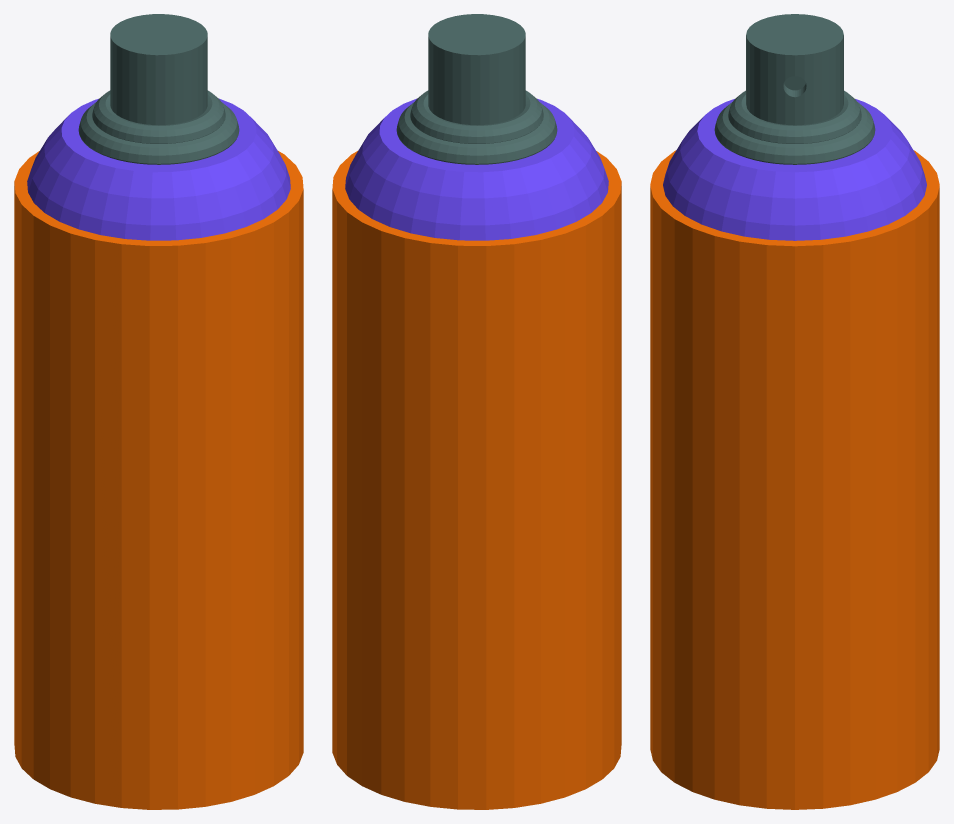
File: Spray.fbx
3 views of the same model, side by side, from view 1: azimuth 30°, elevation 25°; view 2: azimuth 150°, elevation 25°; view 3: azimuth 270°, elevation 25° (orthographic).
Visible parts, largest first — view 1: Can, Nozzle body, Nozzle, Ring 1, Ring 2; view 2: Can, Nozzle body, Nozzle, Ring 1, Ring 2; view 3: Can, Nozzle body, Nozzle, Ring 1, Ring 2.
Boxes of the visible parts, x1,y1,x2,y2 form: Can: (14, 151, 303, 809); Nozzle body: (27, 98, 290, 240); Nozzle: (110, 14, 207, 125); Ring 1: (78, 102, 239, 164); Ring 2: (92, 90, 225, 143); Can: (332, 151, 621, 809); Nozzle body: (345, 98, 608, 240); Nozzle: (428, 14, 525, 125); Ring 1: (396, 102, 557, 164); Ring 2: (410, 90, 543, 143); Can: (650, 150, 939, 809); Nozzle body: (663, 99, 926, 240); Nozzle: (746, 14, 843, 125); Ring 1: (714, 102, 875, 164); Ring 2: (728, 90, 861, 143).
Size of the model in its own units: 46.7 by 127 by 46.7.
